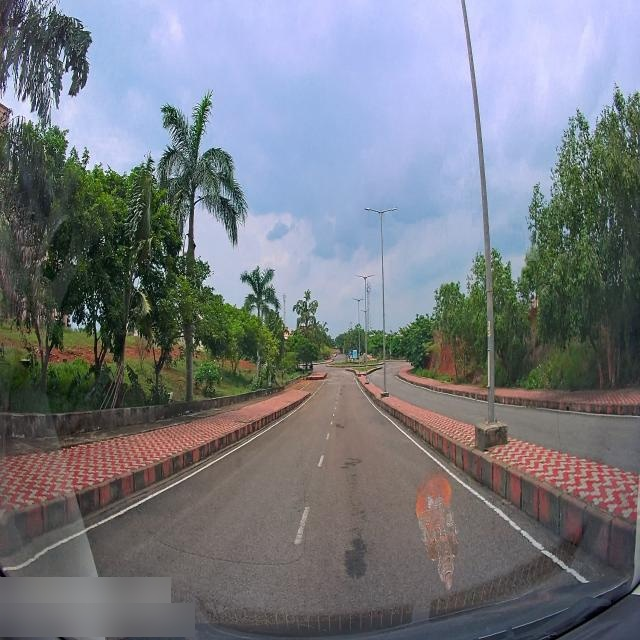pothole: (337, 453, 365, 483)
